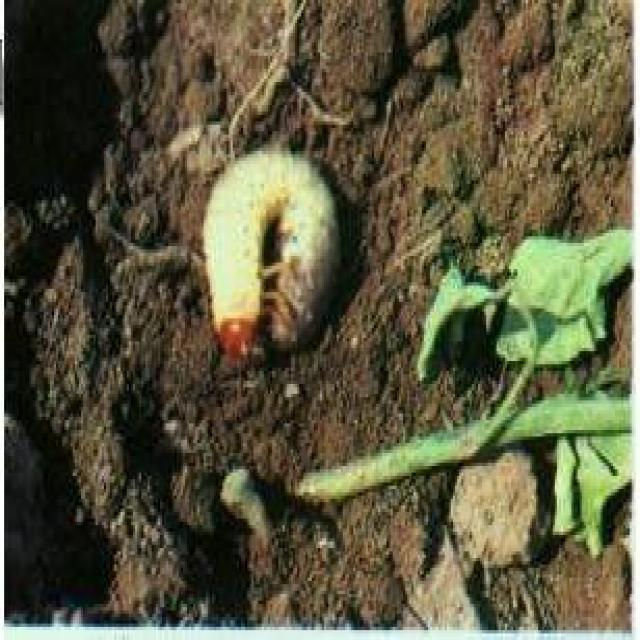Grub-Adult-: (196, 128, 350, 378)
